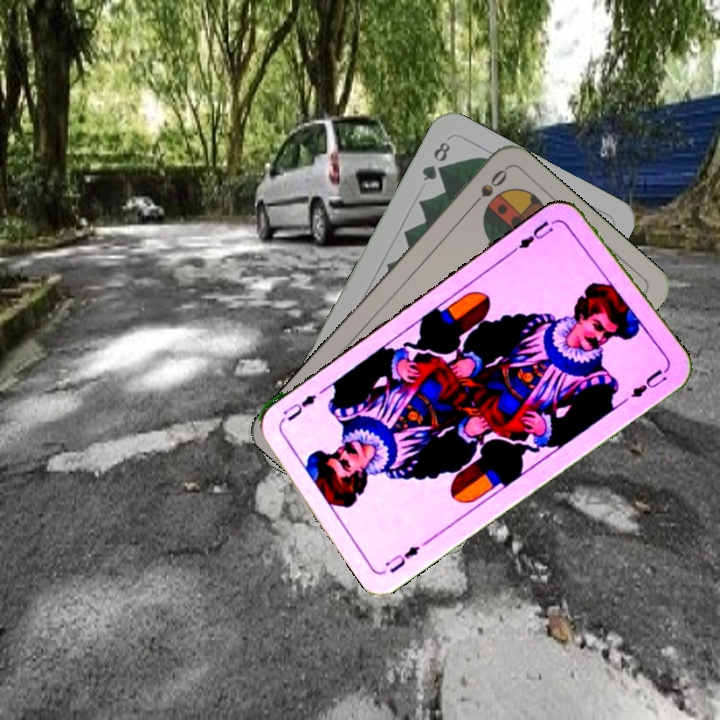EU: (510, 214, 568, 254), (380, 541, 423, 576)
G8: (418, 137, 453, 184)
SO: (465, 165, 510, 213)
